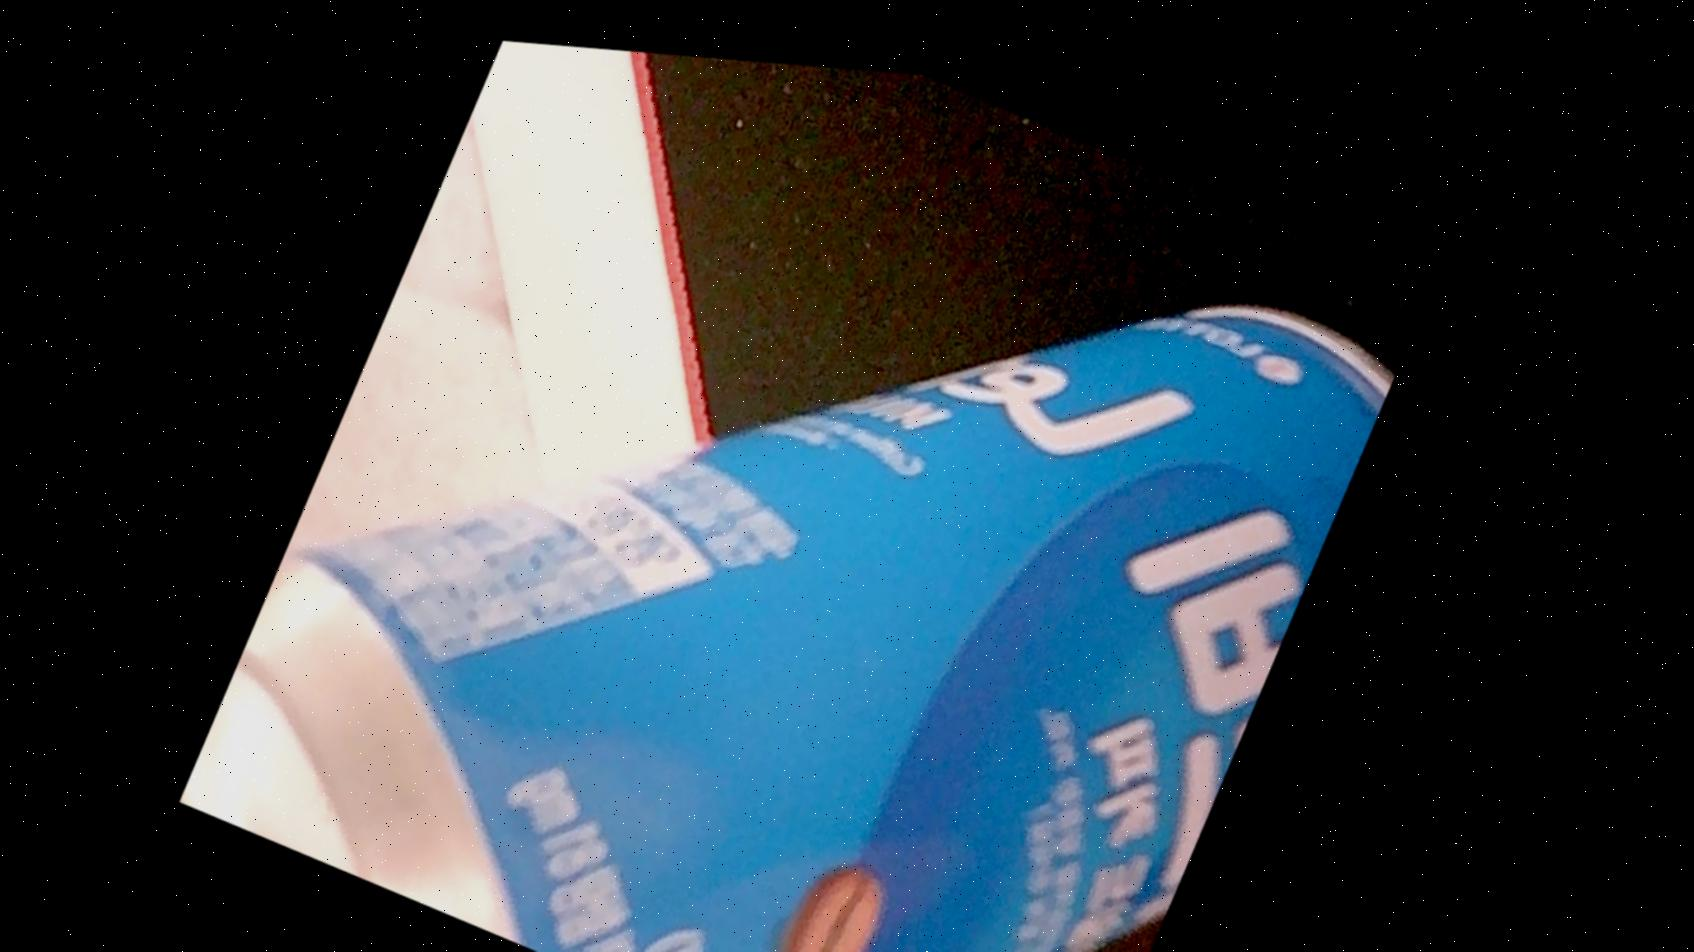letsbe: (180, 16, 1424, 952)
